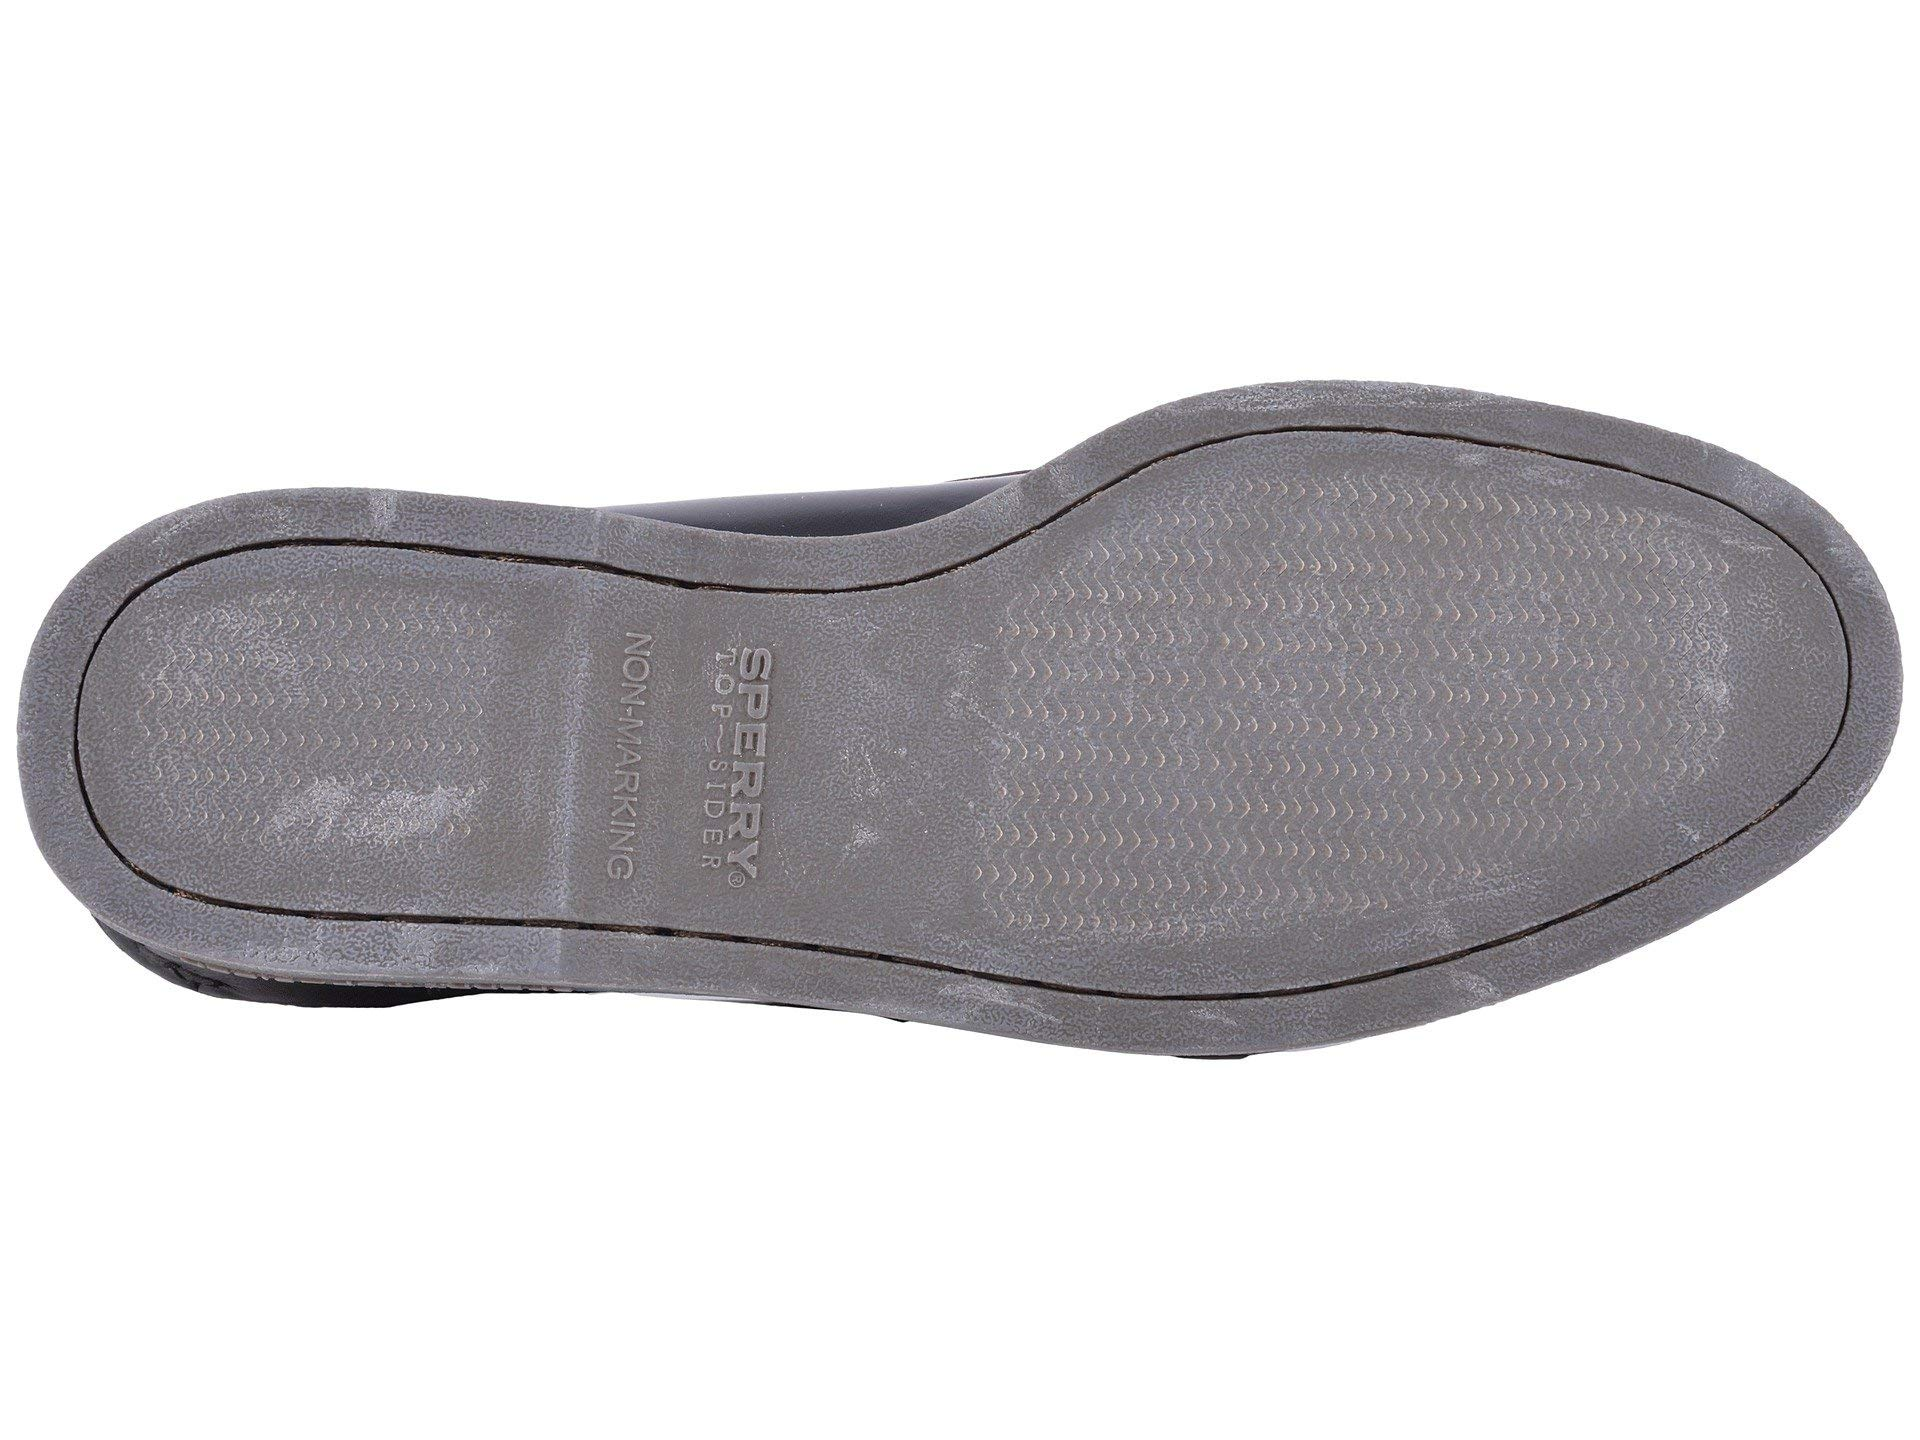chevron: (1179, 535, 1538, 867), (209, 632, 414, 846), (998, 631, 1172, 839)
text: (570, 605, 825, 908)
